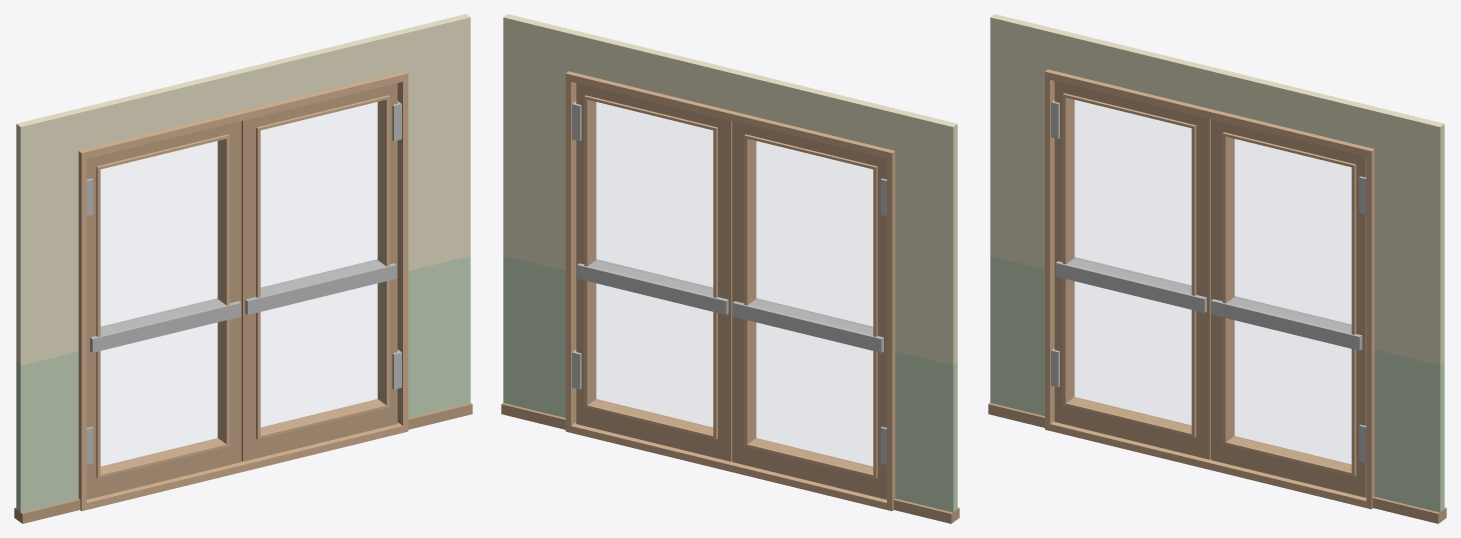
The model's file is front door_2.fbx.
The picture shows the model from 3 angles, left to right: view 1: azimuth 30°, elevation 25°; view 2: azimuth 150°, elevation 25°; view 3: azimuth 330°, elevation 25°; orthographic projection.
Parts seen in each view (by area): view 1: Boole, Cube_7, Cube_12; view 2: Boole, Cube_7, Cube_12; view 3: Boole, Cube_12, Cube_7.
Part boxes in pixels (x1=…): Boole: x1=14, y1=14, x2=472, y2=523; Cube_7: x1=241, y1=83, x2=401, y2=461; Cube_12: x1=87, y1=121, x2=241, y2=499; Boole: x1=501, y1=14, x2=959, y2=523; Cube_7: x1=572, y1=83, x2=732, y2=461; Cube_12: x1=732, y1=121, x2=886, y2=499; Boole: x1=988, y1=14, x2=1446, y2=523; Cube_12: x1=1051, y1=81, x2=1210, y2=459; Cube_7: x1=1211, y1=119, x2=1366, y2=497.
Size of the model in its own units: 106 by 89.41 by 4.45.
